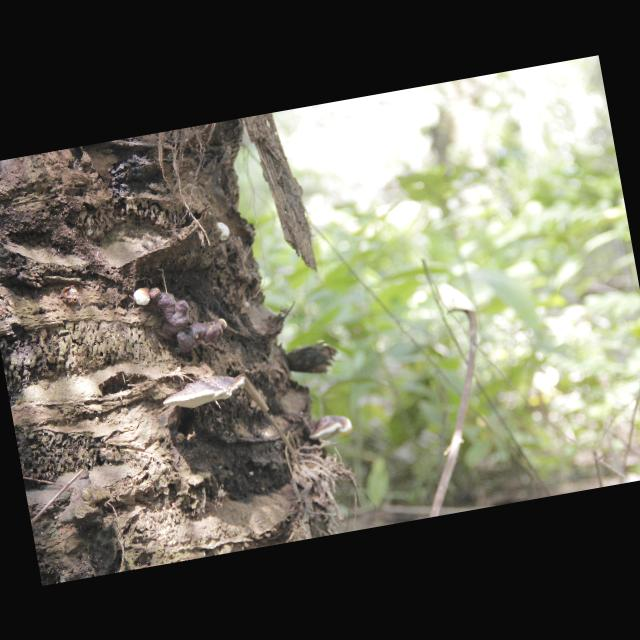ganoderma: (151, 278, 223, 360), (161, 371, 251, 415), (307, 412, 355, 446)
primordium: (132, 287, 152, 308), (217, 221, 232, 243), (218, 318, 228, 332)
